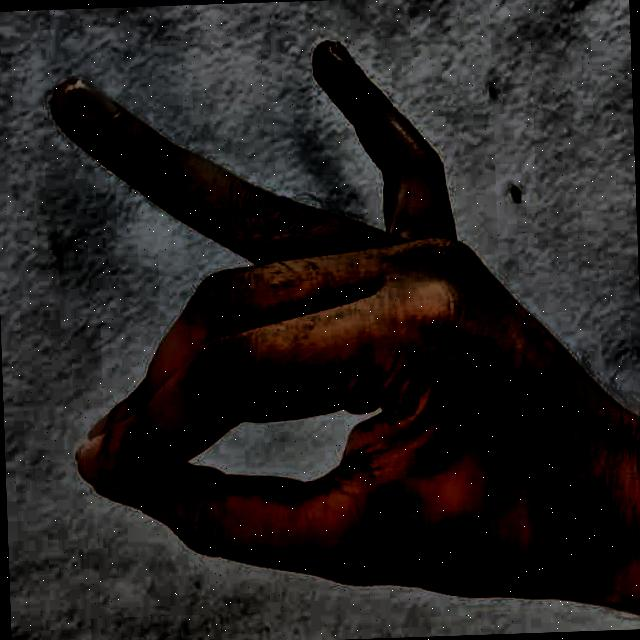Na: (19, 7, 613, 637)
